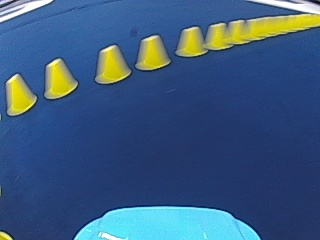cone: (43, 56, 78, 98), (95, 44, 130, 84), (4, 72, 36, 115), (135, 34, 170, 70), (176, 26, 205, 57), (204, 23, 229, 49)
